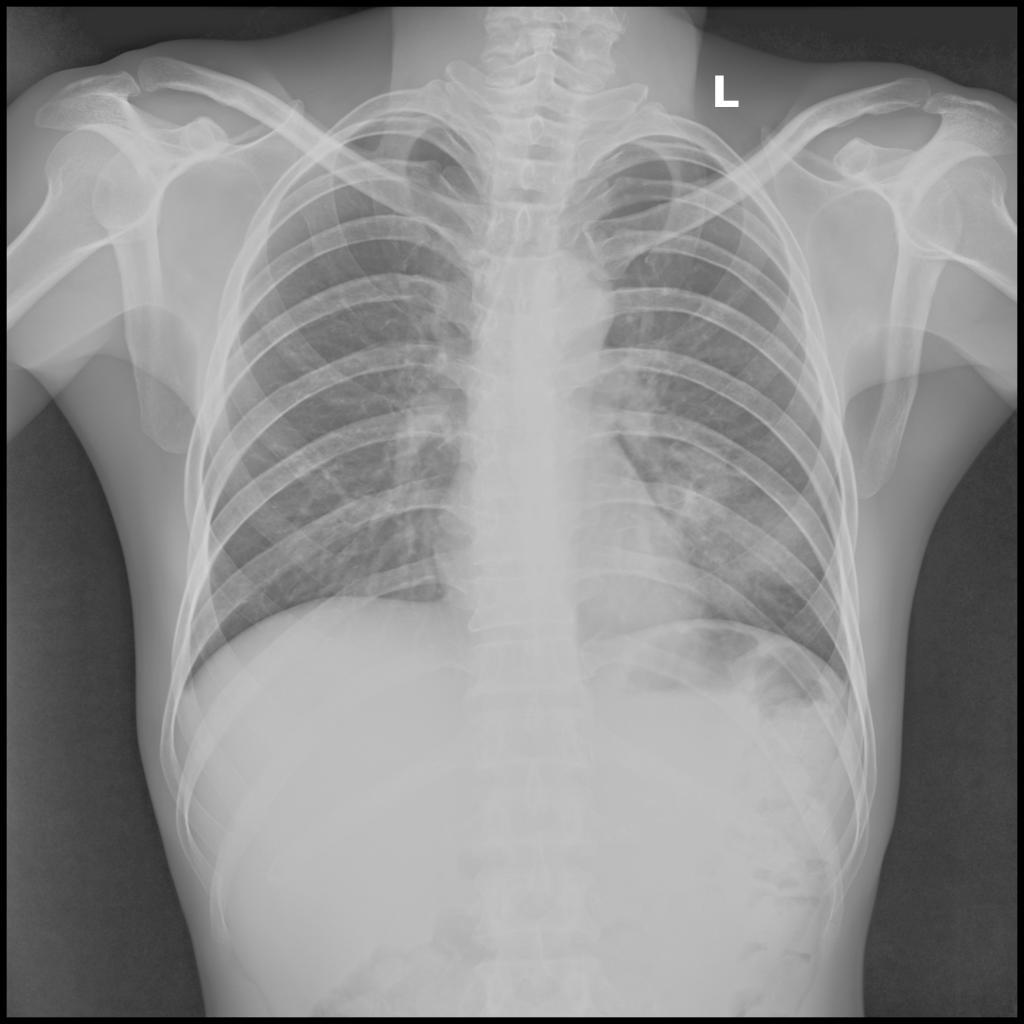Nodule: (661, 477, 827, 611)
